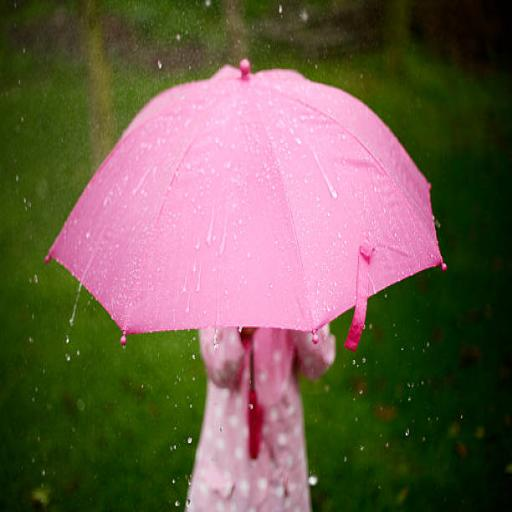guarda_chuva: (44, 56, 447, 457)
